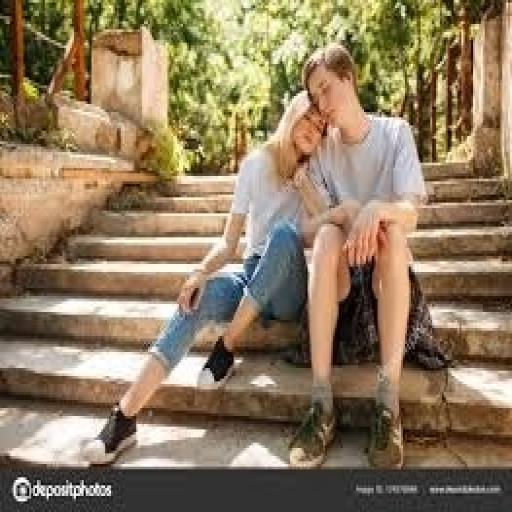sitting: (82, 40, 432, 469), (282, 40, 428, 469)
